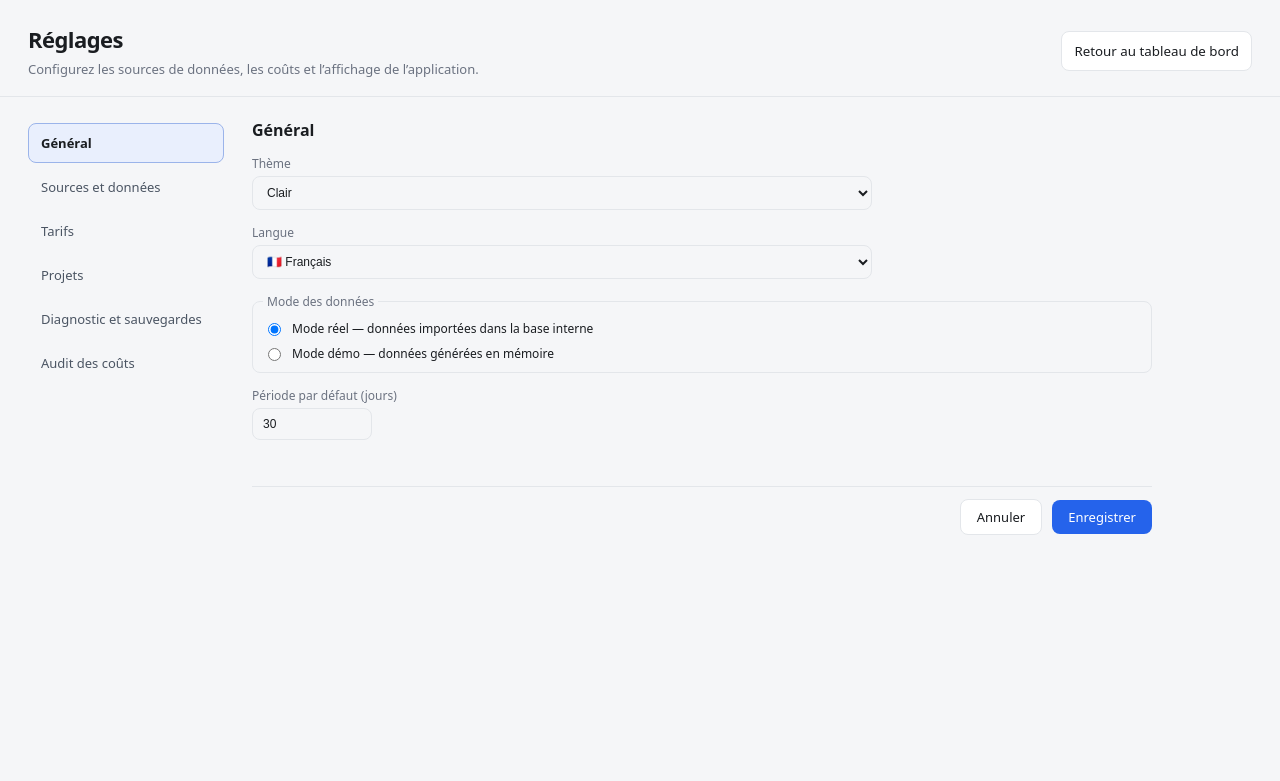
Test: SettingsModal catalog rates › shows compact catalog rows and expands rate provenance on demand
Click the button "Projets" at (126, 275), box x1=28 y1=255 x2=224 y2=295
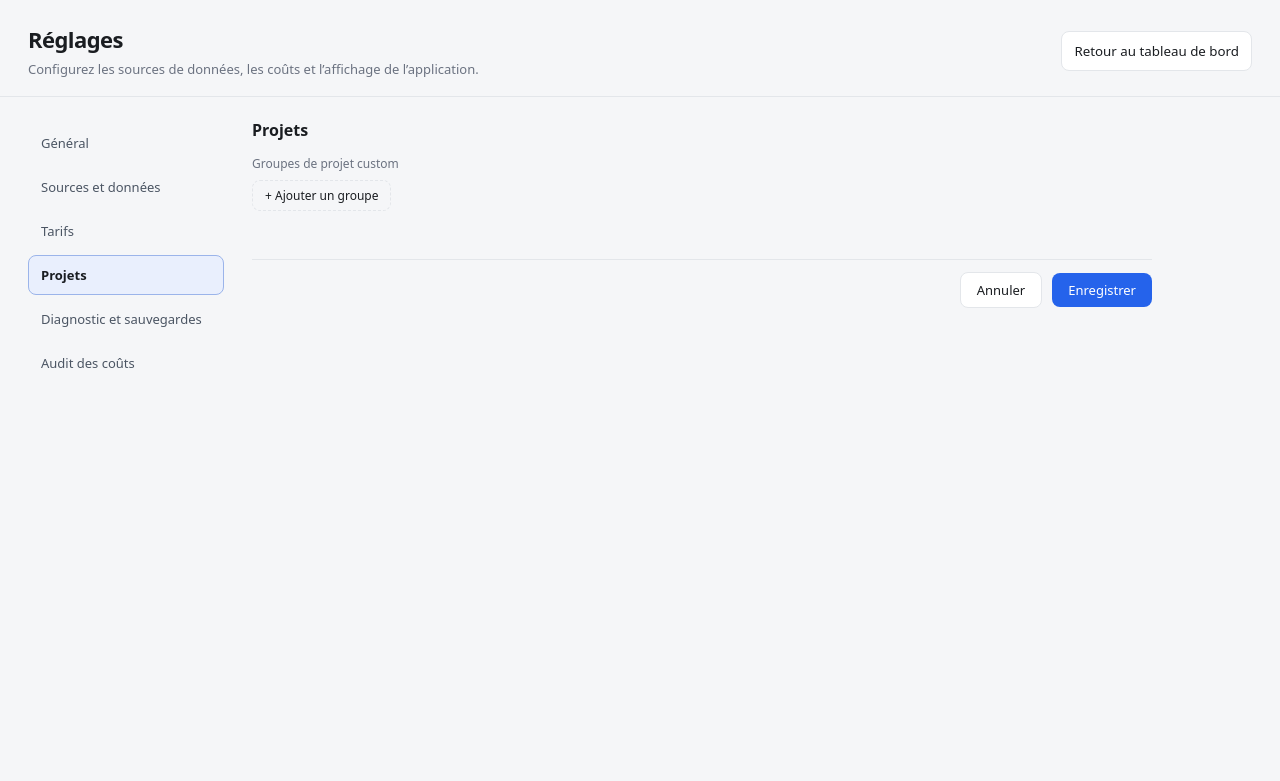
Click the button "Tarifs" at (126, 231), box x1=28 y1=211 x2=224 y2=251
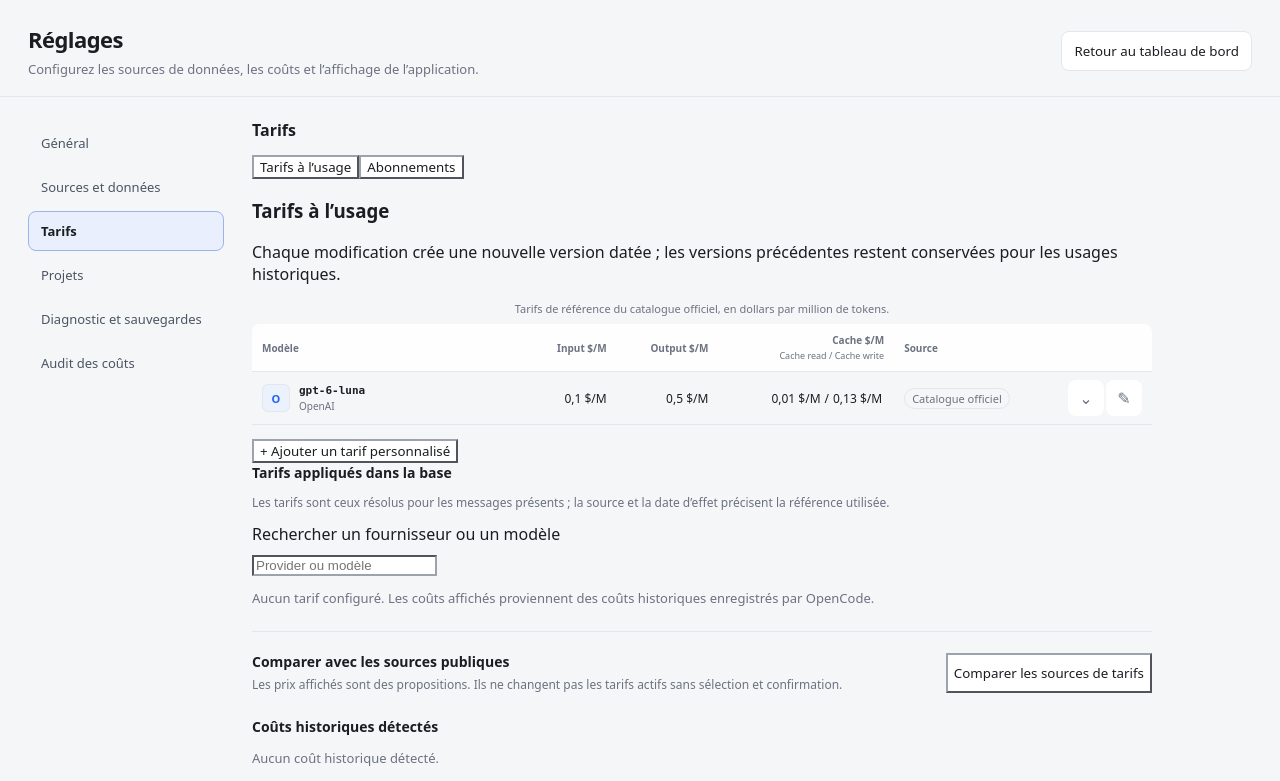
Check: the table with class "catalog-rates-table" is shown, box x1=252 y1=301 x2=1152 y2=425
Check: the text "gpt-6-luna" is shown, box x1=299 y1=384 x2=365 y2=397
Click the button named "Afficher les détails de OpenAI/gpt-6-luna" at (1086, 398), box x1=1068 y1=380 x2=1104 y2=416
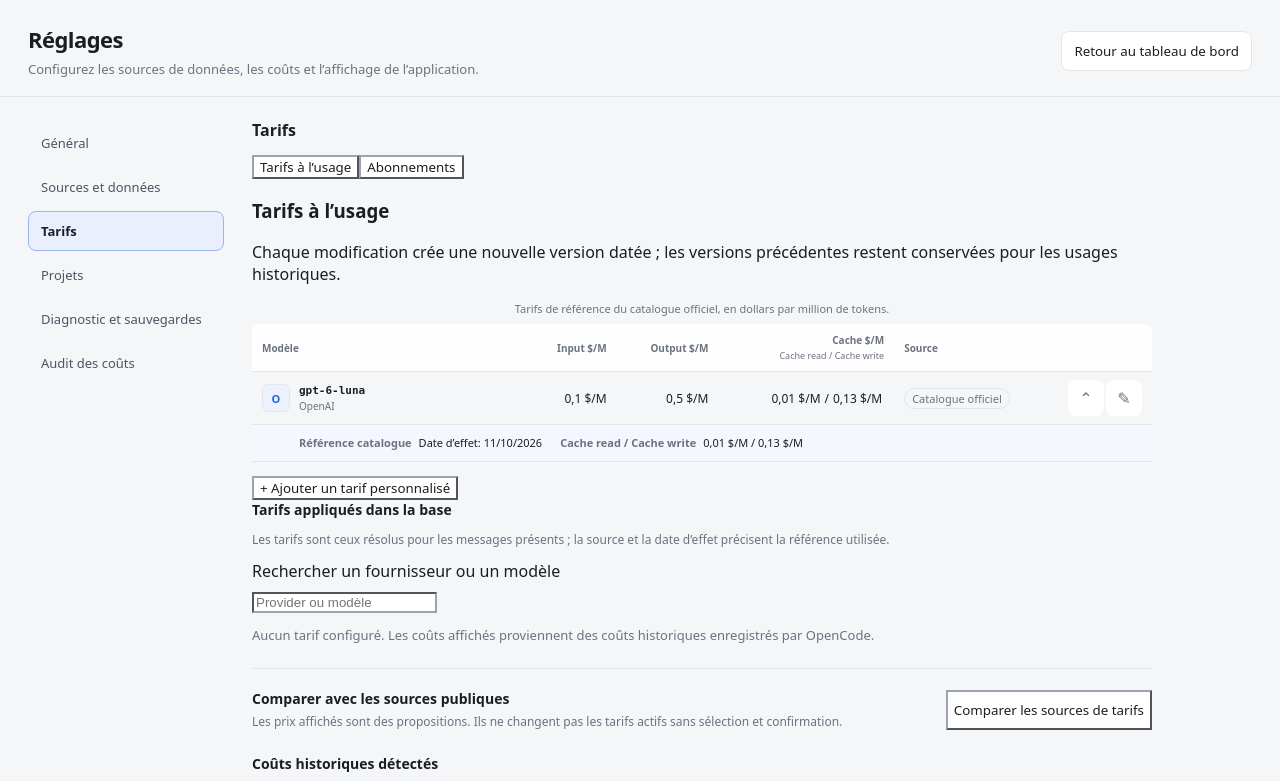
Check: the button named "Personnaliser le tarif catalogue de OpenAI/gpt-6-luna" is shown
Check: the button named "Afficher les détails de OpenAI/gpt-6-luna" is expanded, box x1=1068 y1=380 x2=1104 y2=416
Check: the text "Date d’effet: 11/10/2026" is shown, box x1=419 y1=435 x2=542 y2=450
Click the button named "Personnaliser le tarif catalogue de OpenAI/gpt-6-luna" at (1124, 398), box x1=1106 y1=380 x2=1142 y2=416
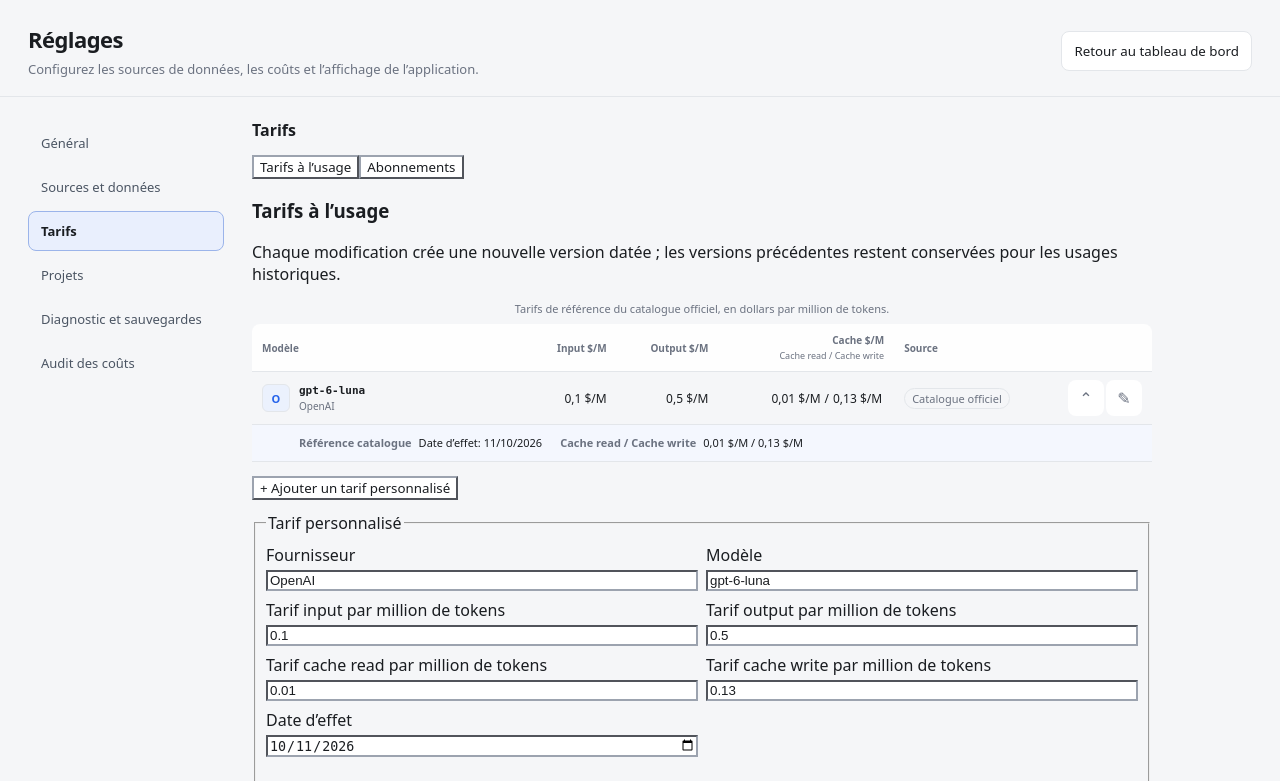
Check: the field named "Identifiant exact du modèle" holds "gpt-6-luna", box x1=706 y1=570 x2=1138 y2=591
